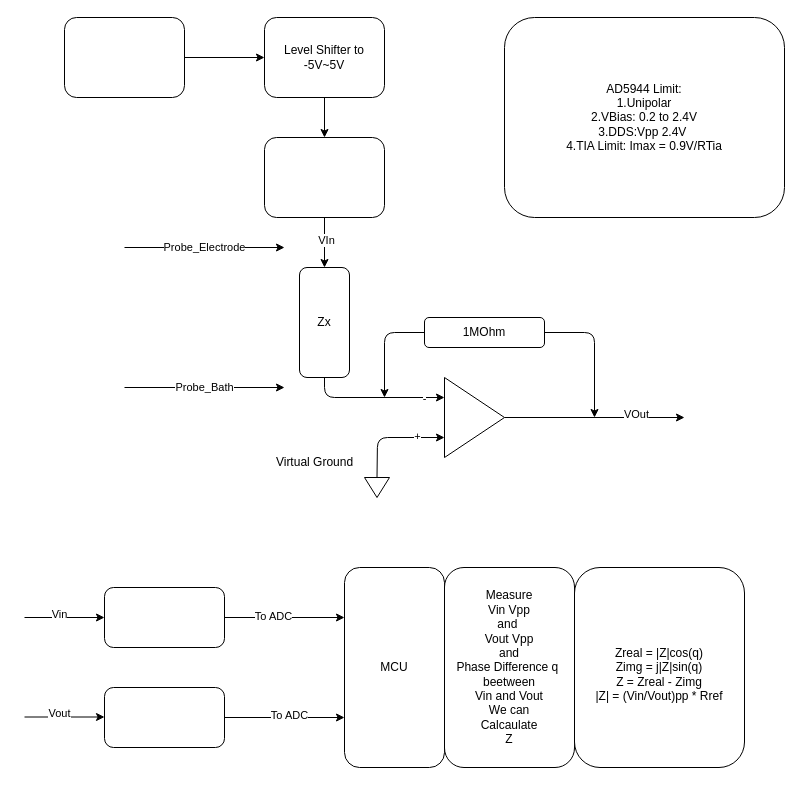
Some shapes in this 802 by 785 pixel diagram are drawn without their labels. Each missing label, with the centre of its shape:
"AMP1" belongs at [164,617].
"AMP2" belongs at [164,717].
"Attenuation to 4mVpp" belongs at [324,177].
"DDS 0-3.3v" belongs at [124,57].
